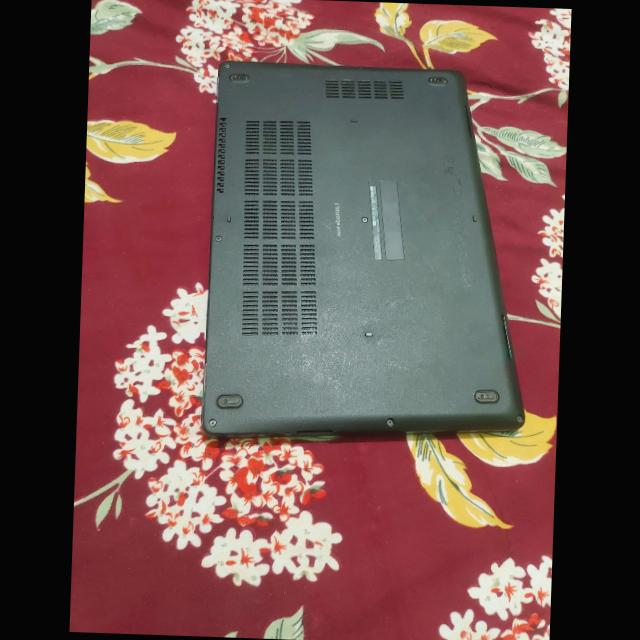laptop: (181, 54, 528, 456)
